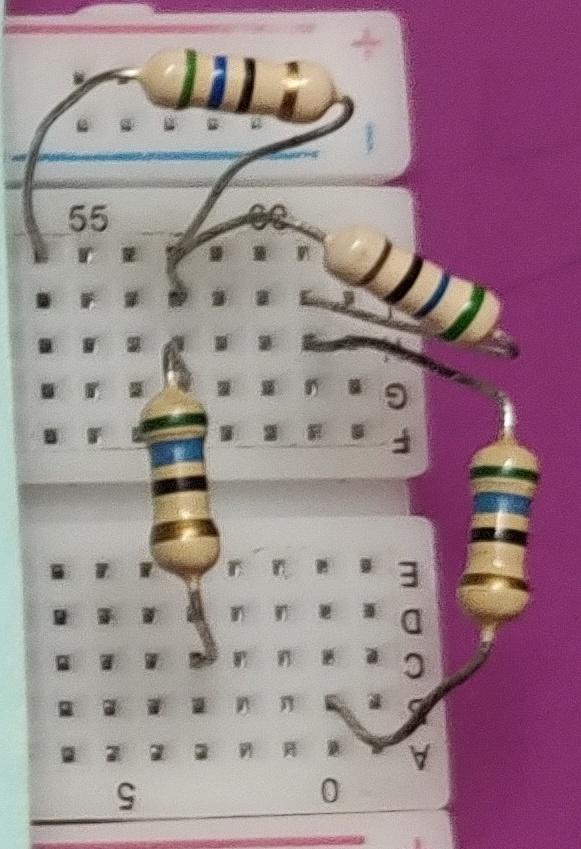resistor: (309, 212, 517, 353), (120, 39, 352, 140), (127, 375, 230, 581), (457, 432, 550, 621)
